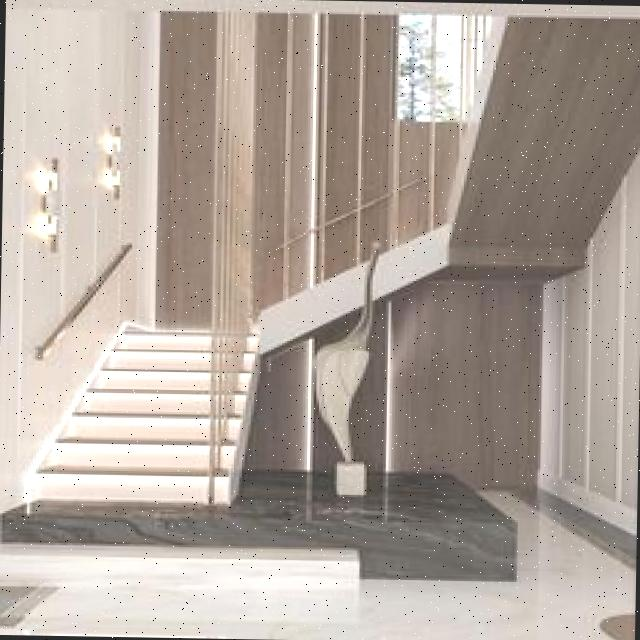stairs: (27, 316, 260, 508)
